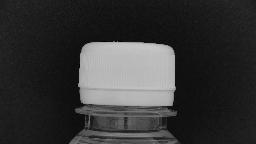Good Cap: (72, 36, 182, 122)
